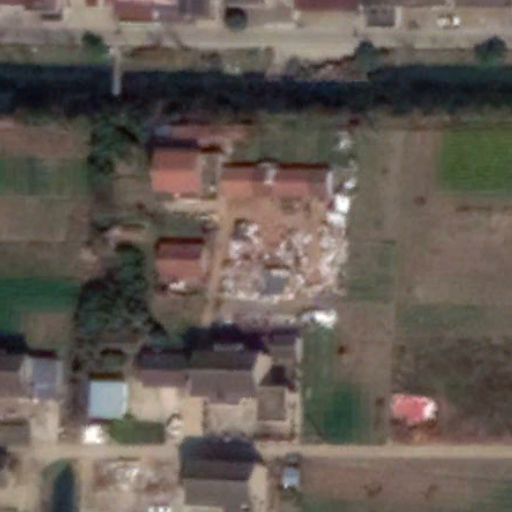msw: (220, 219, 345, 327)
